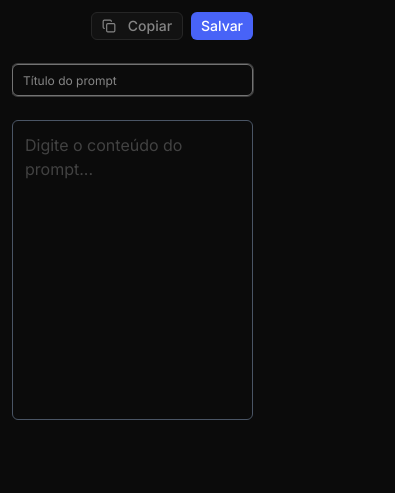
Scenario: PromptForm › should display a `required` message when the form is empty
Click the button "Salvar" at (222, 26), box [191,12,253,40]
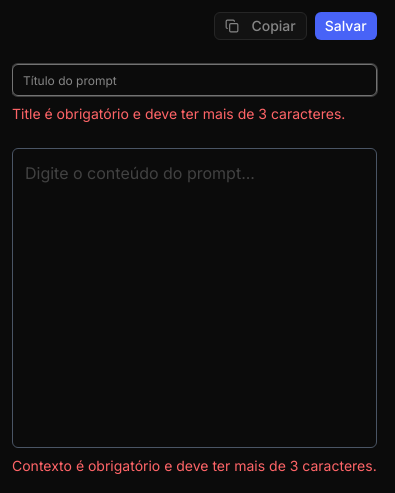
Now the text "Title é obrigatório e deve ter mais de 3 caracteres." is shown, box [12,104,377,124]
Now the text "Contexto é obrigatório e deve ter mais de 3 caracteres." is shown, box [12,456,377,476]
